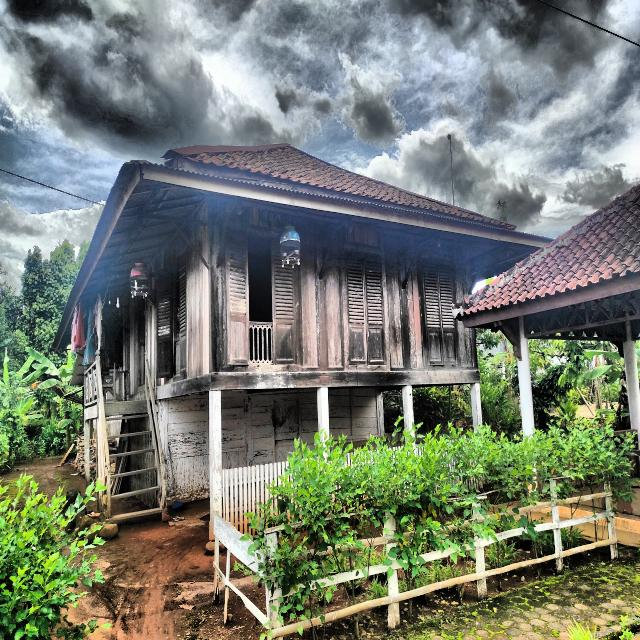column: (317, 387, 331, 517), (209, 391, 221, 541), (402, 386, 417, 494), (470, 384, 485, 470)
ornamen: (84, 360, 98, 407)
roof: (51, 143, 556, 350)
stair: (103, 410, 168, 518)
wall: (121, 198, 480, 508)
window: (226, 232, 274, 365), (346, 250, 385, 364), (157, 253, 187, 378), (423, 258, 458, 365)
